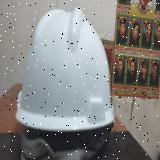Helmet: (15, 7, 115, 132)
